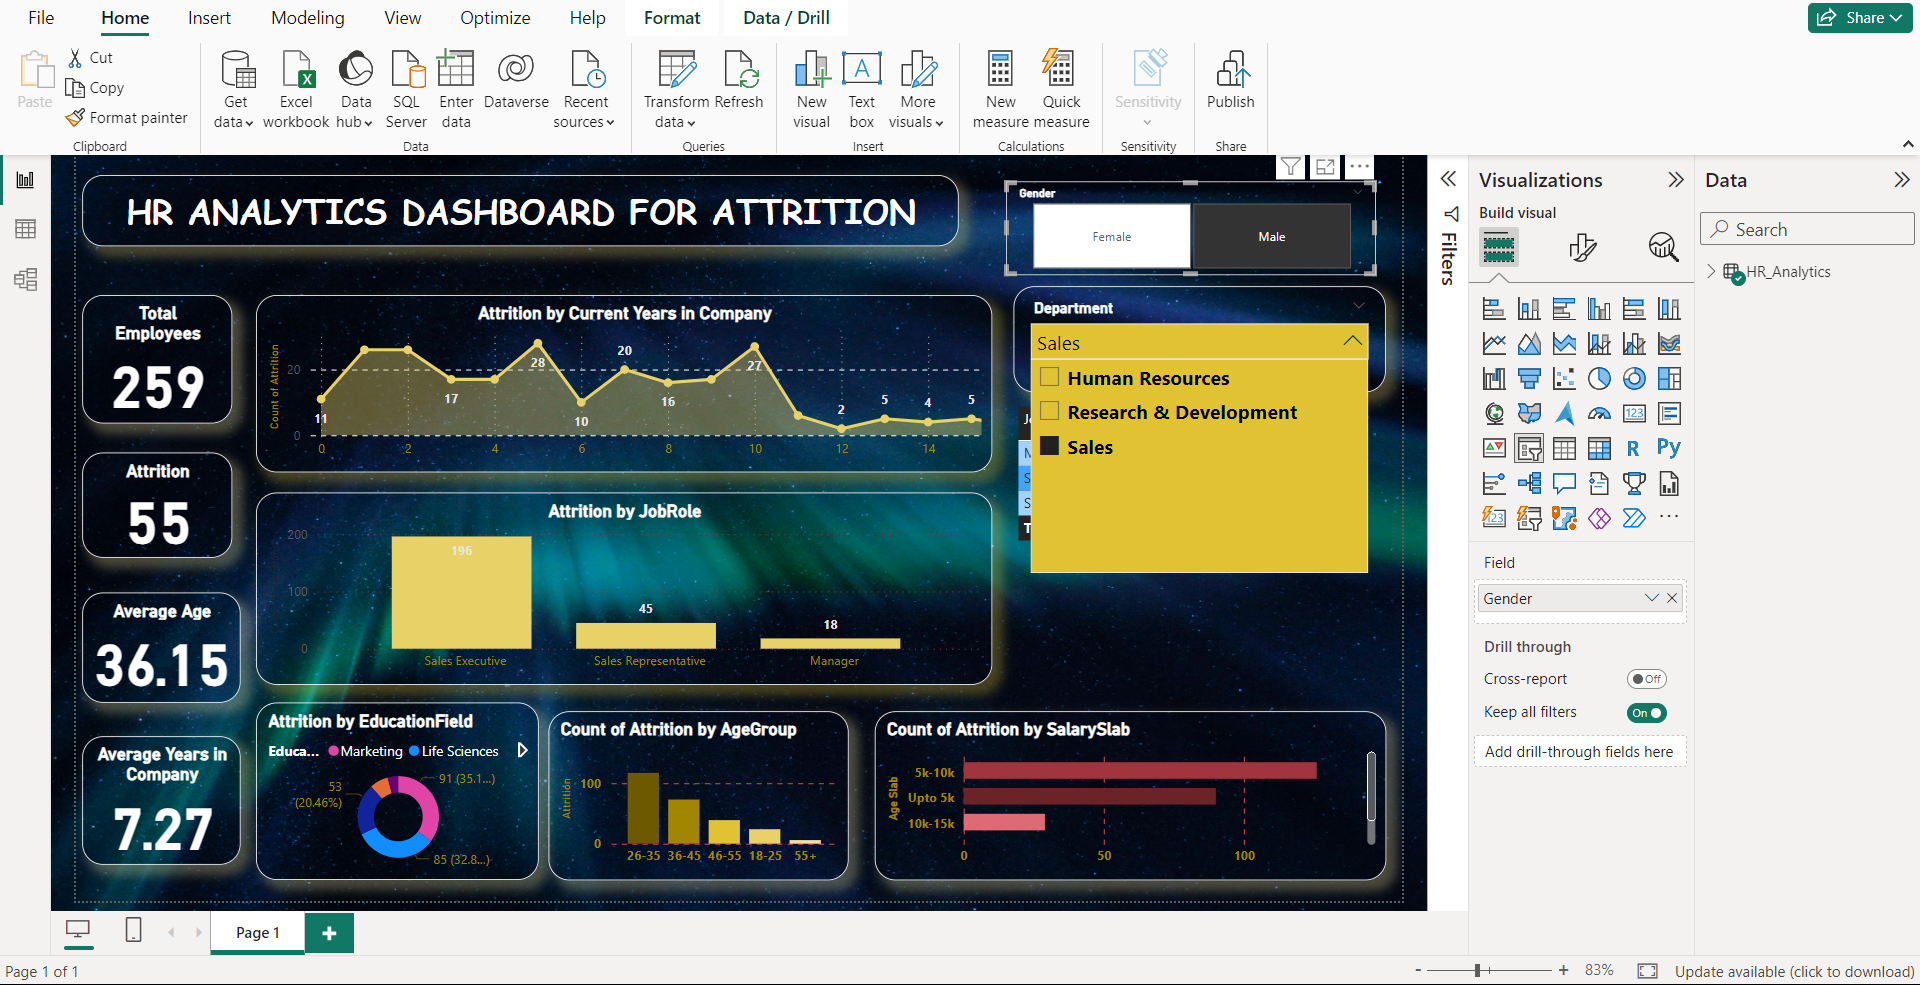

The dashboard page shown, as its layout file describes it:
{"tool":"powerbi","page":{"name":"Page 1","canvas":[1280,720],"ordinal":0},"visuals":[{"type":"card","title":"Total Employees","fields":{"Values":["Sum(HR_Analytics.EmployeeCount)"]},"box":[6,135.1,144.7,124.2],"z":0},{"type":"card","title":"Attrition","fields":{"Values":["Sum(HR_Analytics.Attrition_count)"]},"box":[6,287,144.7,101.3],"z":1000},{"type":"card","title":"Average Age","fields":{"Values":["Avg(HR_Analytics.Age)"]},"box":[6,422.1,153.2,106.1],"z":2000},{"type":"card","title":"Average Years in Company","fields":{"Values":["Avg(HR_Analytics.YearsAtCompany)"]},"box":[6,560.8,153.2,124.2],"z":3000},{"type":"donutChart","title":"Attrition by EducationField","fields":{"Y":["CountNonNull(HR_Analytics.Attrition)"],"Category":["HR_Analytics.EducationField"]},"box":[173.7,528.2,272.6,171.3],"z":4000},{"type":"columnChart","fields":{"Category":["HR_Analytics.AgeGroup"],"Y":["CountNonNull(HR_Analytics.Attrition)"]},"box":[455.9,536.7,289.4,162.8],"z":5000},{"type":"clusteredBarChart","fields":{"Y":["CountNonNull(HR_Analytics.Attrition)"],"Category":["HR_Analytics.SalarySlab"]},"box":[770.7,536.7,493.3,162.8],"z":6000},{"type":"columnChart","title":"Attrition by JobRole","fields":{"Category":["HR_Analytics.JobRole"],"Y":["CountNonNull(HR_Analytics.Attrition)"]},"box":[173.7,325.6,710.4,185.7],"z":7000},{"type":"areaChart","title":"Attrition by Current Years in Company","fields":{"Y":["CountNonNull(HR_Analytics.Attrition)"],"Category":["HR_Analytics.YearsAtCompany"]},"box":[173.7,135.1,710.4,171.3],"z":8000},{"type":"pivotTable","fields":{"Rows":["HR_Analytics.JobRole"],"Columns":["HR_Analytics.JobSatisfaction"],"Values":["Sum(HR_Analytics.EmployeeCount)"]},"box":[904.5,237.6,359.4,273.8],"z":9000},{"type":"slicer","title":"Gender","fields":{"Values":["HR_Analytics.Gender"]},"box":[897,25,357,91],"z":10000},{"type":"slicer","fields":{"Values":["HR_Analytics.Department"]},"box":[904.5,126.6,359.4,102.5],"z":11000},{"type":"textbox","box":[6,19.3,845.4,68.7],"z":12000}]}

Visuals, with their boxes on the page's 1280x720 design canvas (x1, y1, x2, y2). These are canvas units, not pixel positions in the 1920x985 screenshot, which may show the page scaled, cropped or inside an application window:
"Total Employees" card: BBox(6, 135, 151, 259)
"Attrition" card: BBox(6, 287, 151, 388)
"Average Age" card: BBox(6, 422, 159, 528)
"Average Years in Company" card: BBox(6, 561, 159, 685)
"Attrition by EducationField" donutChart: BBox(174, 528, 446, 700)
columnChart - HR_Analytics.AgeGroup x CountNonNull(HR_Analytics.Attrition): BBox(456, 537, 745, 700)
clusteredBarChart - CountNonNull(HR_Analytics.Attrition) x HR_Analytics.SalarySlab: BBox(771, 537, 1264, 700)
"Attrition by JobRole" columnChart: BBox(174, 326, 884, 511)
"Attrition by Current Years in Company" areaChart: BBox(174, 135, 884, 306)
pivotTable - HR_Analytics.JobRole x HR_Analytics.JobSatisfaction: BBox(904, 238, 1264, 511)
"Gender" slicer: BBox(897, 25, 1254, 116)
slicer - HR_Analytics.Department: BBox(904, 127, 1264, 229)
textbox: BBox(6, 19, 851, 88)
